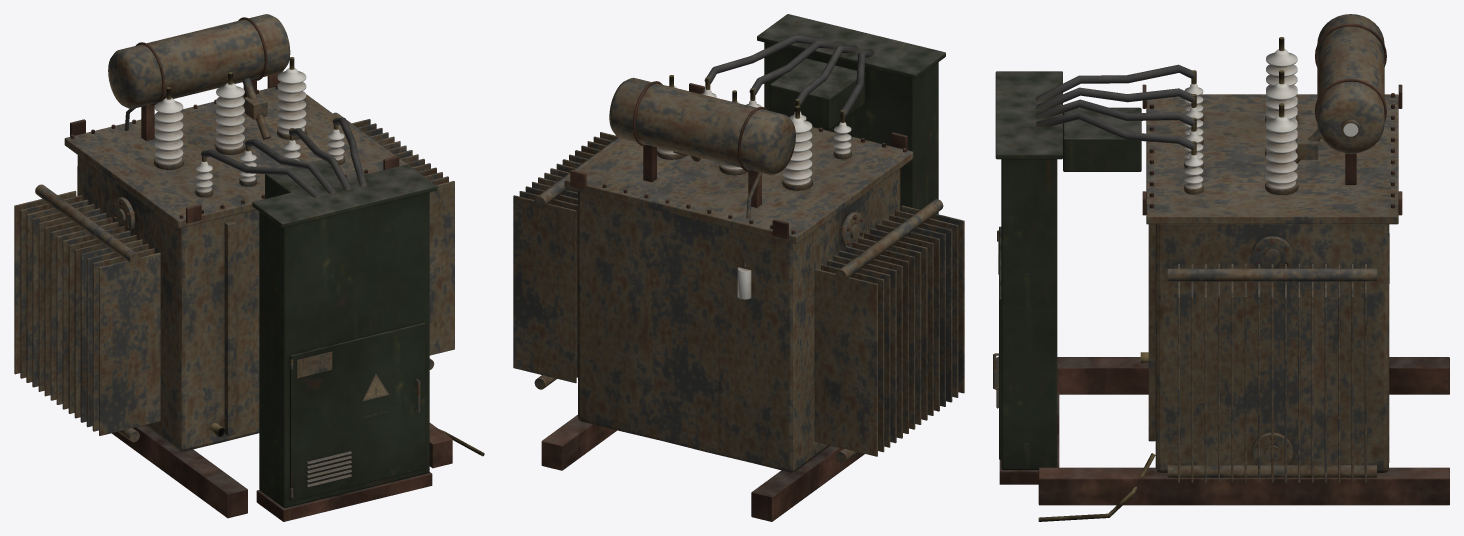
Rendered from Transformer.fbx.
3 renders of one model, left to right at view 1: azimuth 30°, elevation 25°; view 2: azimuth 150°, elevation 25°; view 3: azimuth 270°, elevation 25°, orthographic. The views are drawn at different scales.
Parts seen in each view (by area): view 1: Transformer_Mesh; view 2: Transformer_Mesh; view 3: Transformer_Mesh.
Boxes of the visible parts, x1,y1,x2,y2 form: Transformer_Mesh: (14,14,484,521); Transformer_Mesh: (513,14,964,521); Transformer_Mesh: (993,14,1449,521).
Size of the model in its own units: 2.43 by 2.32 by 2.44.
